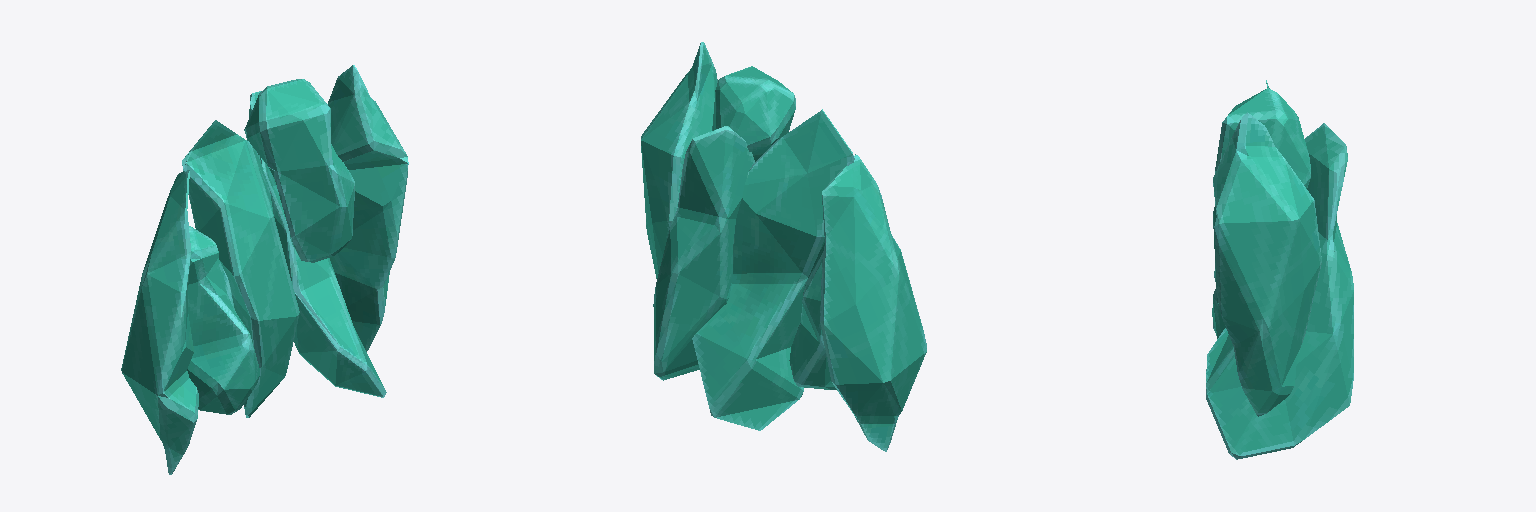
3 renders of one model, left to right at view 1: azimuth 30°, elevation 25°; view 2: azimuth 150°, elevation 25°; view 3: azimuth 270°, elevation 25°, orthographic.
Visible parts, largest first — view 1: Diamondwall; view 2: Diamondwall; view 3: Diamondwall.
Boxes of the visible parts, <box> form: Diamondwall: <box>121,65,408,474</box>; Diamondwall: <box>641,42,926,451</box>; Diamondwall: <box>1206,80,1353,459</box>.
Bounding box in the file's own units: 1.36 × 1.85 × 0.6834.
1 materials, 1 textured.